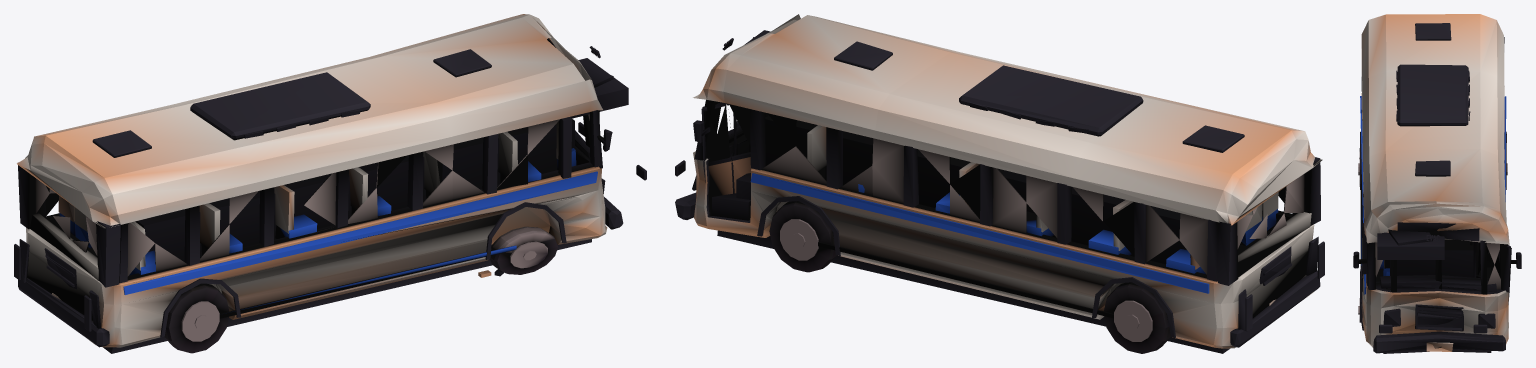
File: veh.evac-bus.wrecked.lod1.glb
3 renders of one model, left to right at view 1: azimuth 30°, elevation 25°; view 2: azimuth 150°, elevation 25°; view 3: azimuth 270°, elevation 25°, orthographic. The views are drawn at different scales.
Parts seen in each view (by area): view 1: body, wheelRL, wheelFL; view 2: body, wheelRR, wheelFR; view 3: body.
Part boxes in pixels (bbox=[...]): body: bbox=[14, 14, 646, 353]; wheelRL: bbox=[164, 283, 229, 353]; wheelFL: bbox=[490, 226, 557, 274]; body: bbox=[675, 14, 1324, 353]; wheelRR: bbox=[1104, 282, 1170, 353]; wheelFR: bbox=[769, 201, 836, 272]; body: bbox=[1353, 14, 1521, 353].
Size of the model in its own units: 9.25 by 3 by 2.96.
